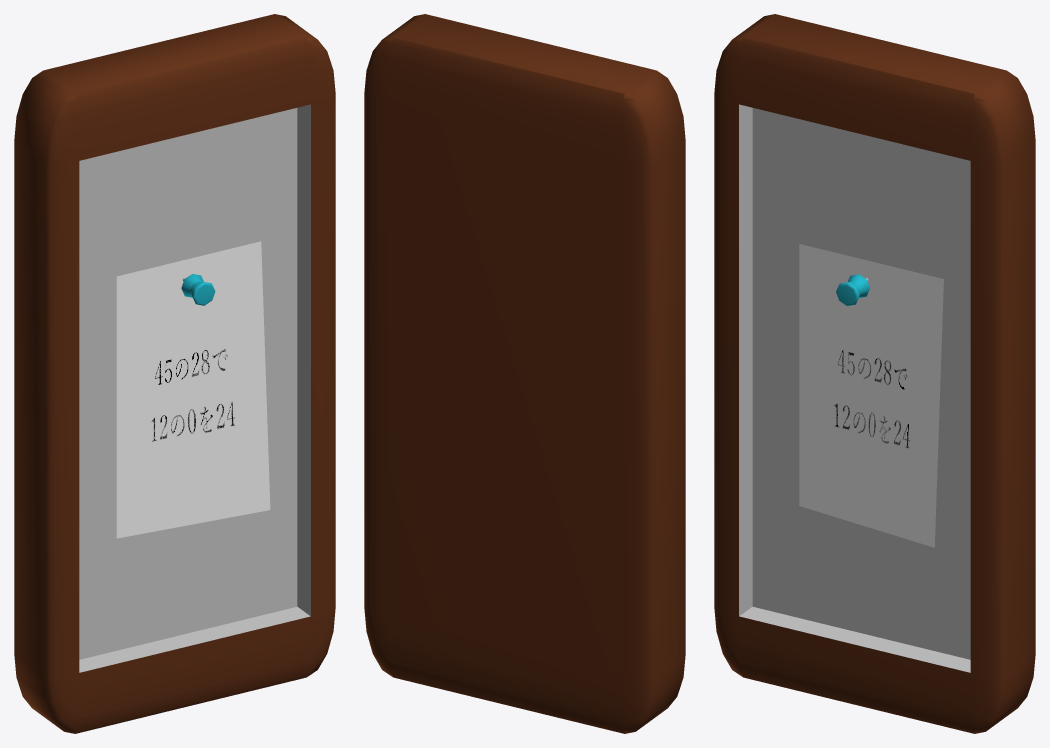
File: keigi3.fbx
3 renders of one model, left to right at view 1: azimuth 30°, elevation 25°; view 2: azimuth 150°, elevation 25°; view 3: azimuth 330°, elevation 25°, orthographic.
Visible parts, largest first — view 1: obj6, obj7; view 2: obj6; view 3: obj6, obj7.
Boxes of the visible parts, x1,y1,x2,y2 form: obj6: (14,14,335,733); obj7: (116,241,270,538); obj6: (364,14,685,733); obj6: (714,14,1035,733); obj7: (799,244,943,547).
Bounding box in the file's own units: 57.77 × 122 × 17.05.
